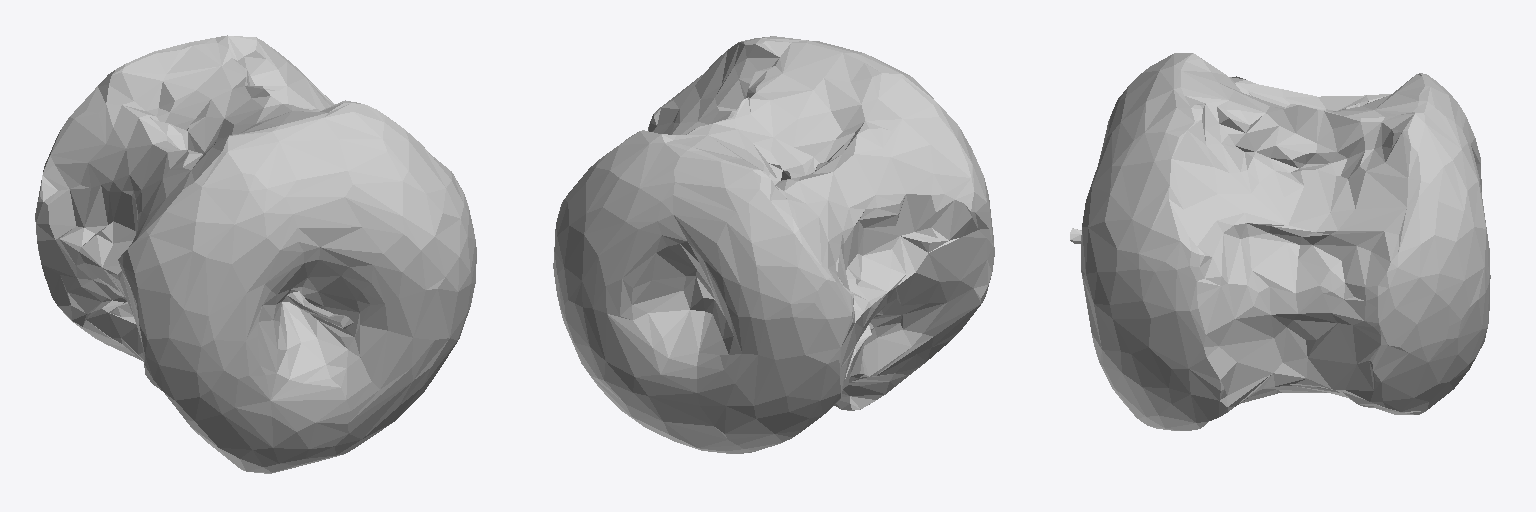
Rendered from Apple_Bitten.obj.
3 renders of one model, left to right at view 1: azimuth 30°, elevation 25°; view 2: azimuth 150°, elevation 25°; view 3: azimuth 270°, elevation 25°, orthographic.
Parts seen in each view (by area): view 1: Apple_Bitten; view 2: Apple_Bitten; view 3: Apple_Bitten.
Boxes of the visible parts, x1=… form: Apple_Bitten: x1=35, y1=35, x2=476, y2=473; Apple_Bitten: x1=553, y1=36, x2=994, y2=453; Apple_Bitten: x1=1070, y1=53, x2=1490, y2=430.
Size of the model in its own units: 0.8403 by 0.8182 by 0.8979.